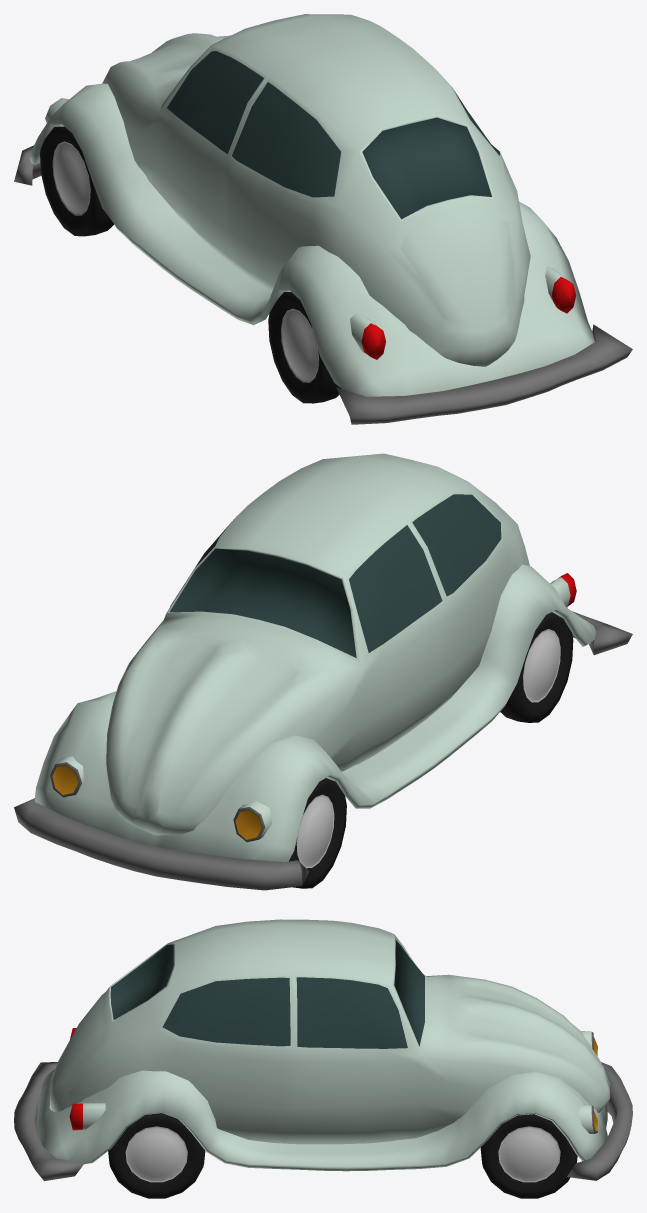
3 views of the same model, one above another, from view 1: azimuth 30°, elevation 25°; view 2: azimuth 150°, elevation 25°; view 3: azimuth 270°, elevation 25° (orthographic). The views are drawn at different scales.
Parts seen in each view (by area): view 1: Beatle_recontour.006, Beatle_recontour.001; view 2: Beatle_recontour.006, Beatle_recontour.001; view 3: Beatle_recontour.006, Beatle_recontour.001.
Part boxes in pixels (x1=…): Beatle_recontour.006: x1=14, y1=14, x2=632, y2=424; Beatle_recontour.001: x1=40, y1=126, x2=341, y2=403; Beatle_recontour.006: x1=14, y1=453, x2=632, y2=890; Beatle_recontour.001: x1=289, y1=612, x2=573, y2=888; Beatle_recontour.006: x1=14, y1=919, x2=632, y2=1181; Beatle_recontour.001: x1=108, y1=1113, x2=577, y2=1198.
Size of the model in its own units: 211 by 186 by 488.
